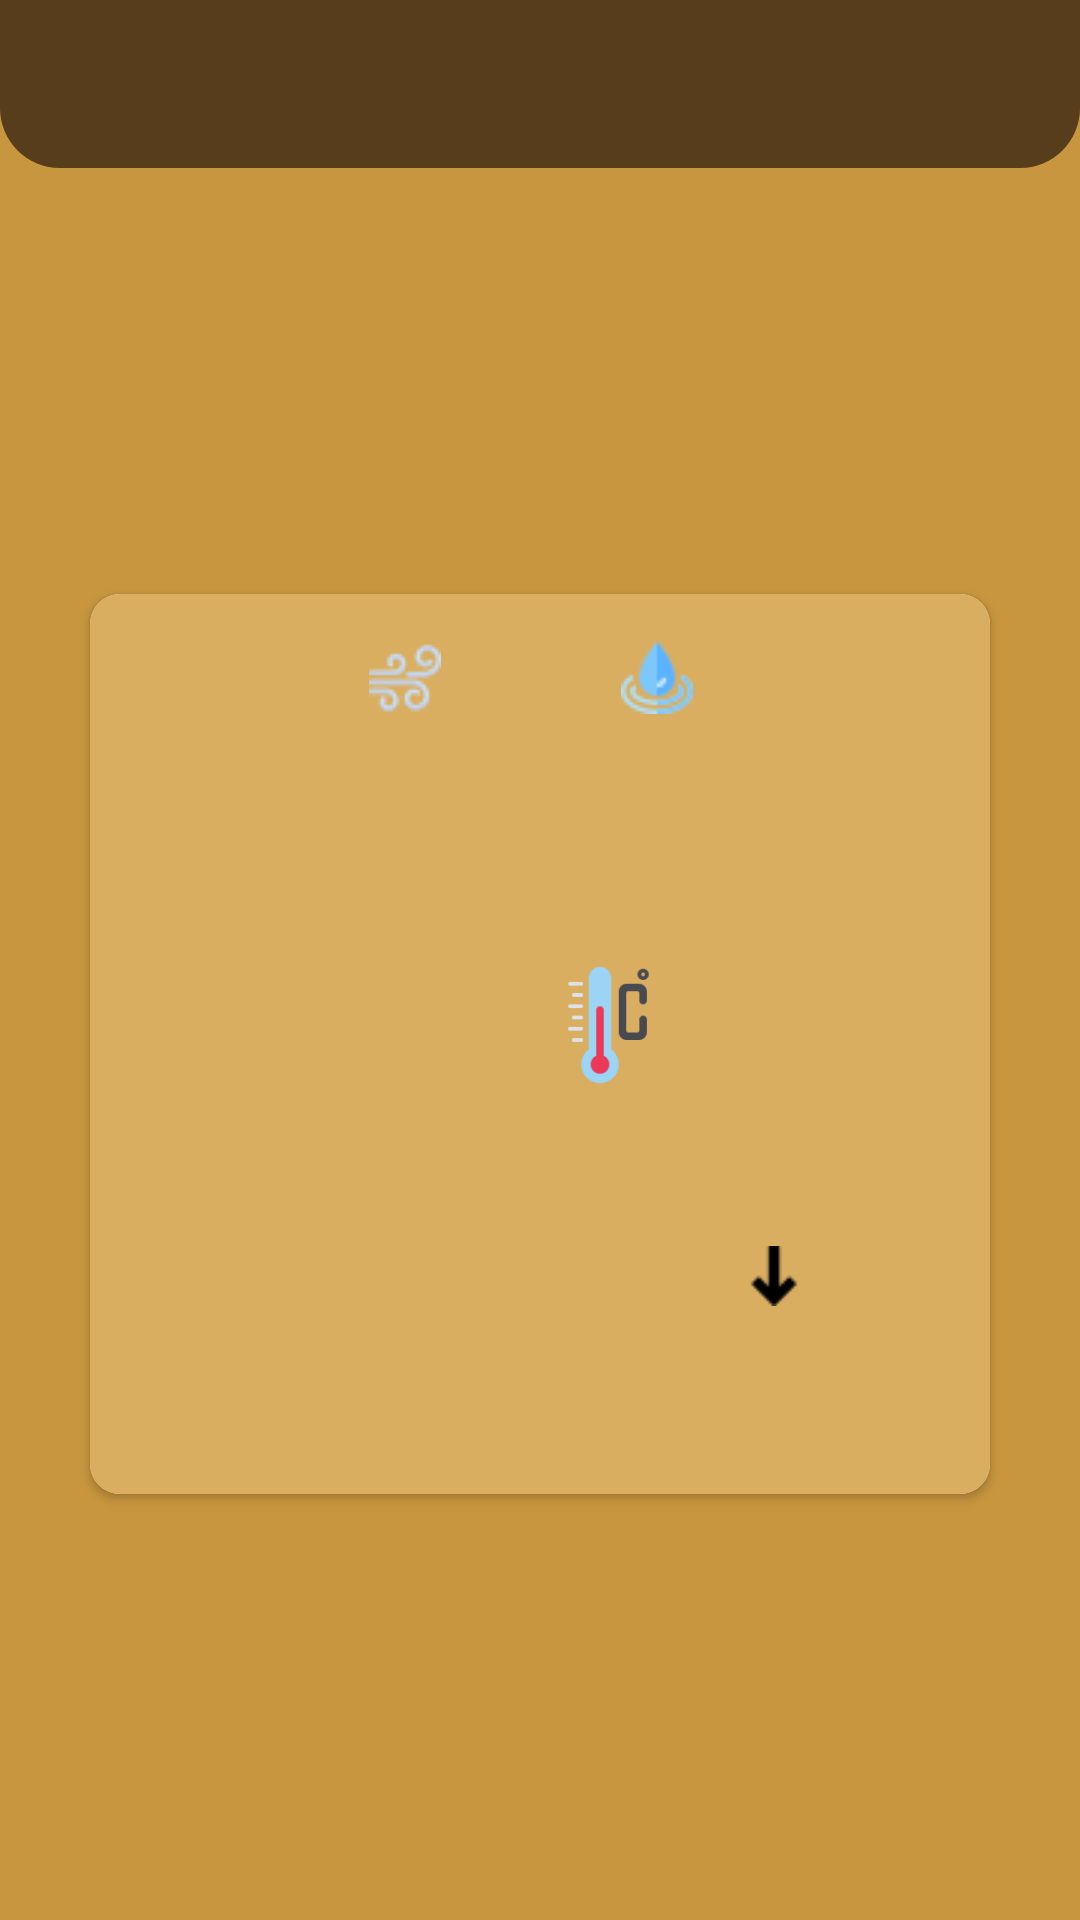

Icon bounding boxes for this 1080×1920 phone screenshot, format bbox=[x1, y1, x2, y2]:
celsius: bbox=[568, 967, 649, 1083]
down arrow: bbox=[751, 1246, 797, 1306]
water drop: bbox=[621, 642, 693, 714]
wind: bbox=[369, 644, 441, 712]
